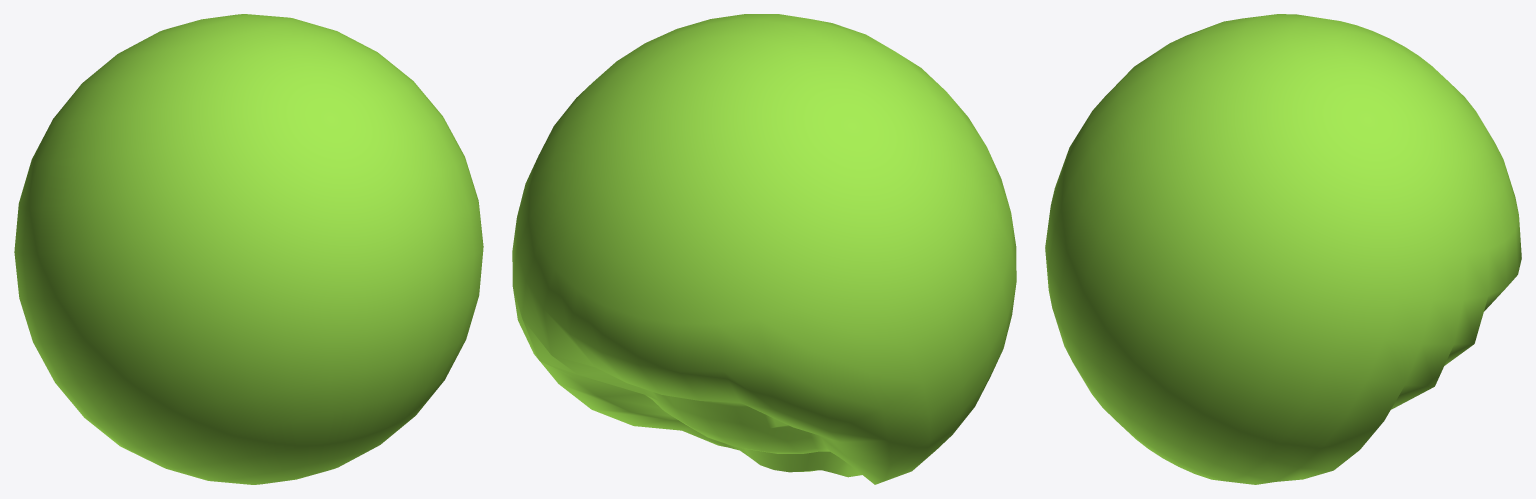
File: BALL_crab.glb
3 renders of one model, left to right at view 1: azimuth 30°, elevation 25°; view 2: azimuth 150°, elevation 25°; view 3: azimuth 270°, elevation 25°, orthographic. The views are drawn at different scales.
Visible parts, largest first — view 1: BALL; view 2: BALL; view 3: BALL.
Boxes of the visible parts, x1,y1,x2,y2 form: BALL: (14,14,483,484); BALL: (512,14,1016,484); BALL: (1045,14,1521,484).
Size of the model in its own units: 4.6 by 4.54 by 4.6.
